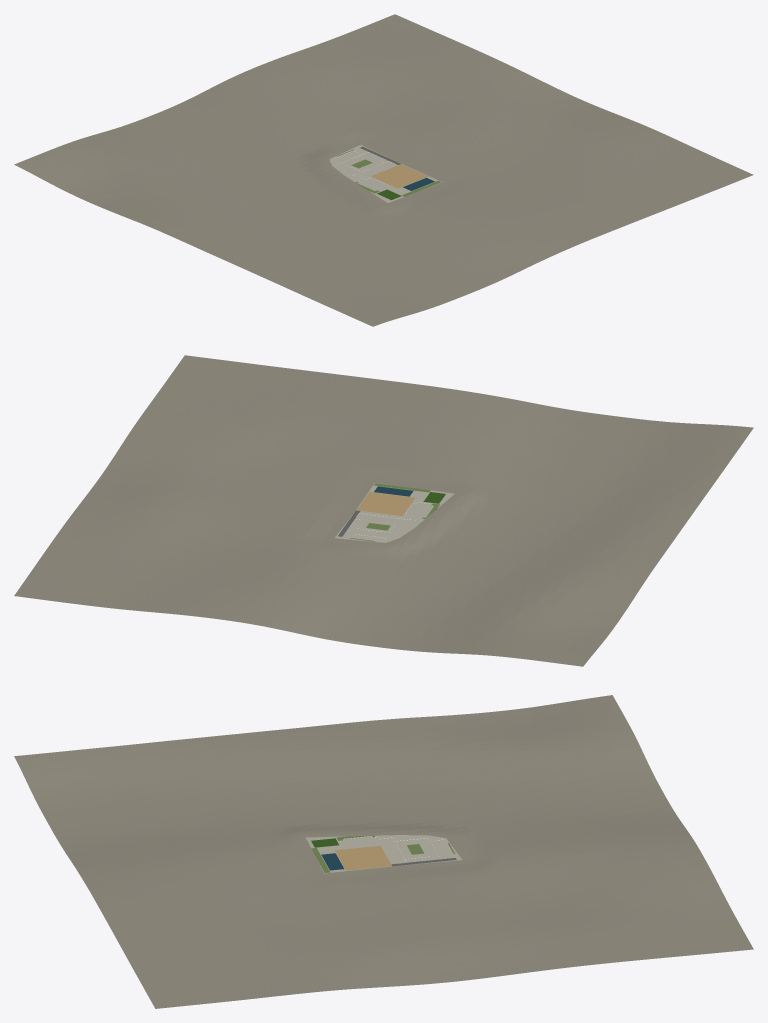
3 views of the same model, one above another, from view 1: azimuth 30°, elevation 25°; view 2: azimuth 150°, elevation 25°; view 3: azimuth 270°, elevation 25° (orthographic). The views are drawn at different scales.
Parts seen in each view (by area): view 1: ground_context-estimated, surface_school-paved-walk, surface_school-field; view 2: ground_context-estimated, surface_school-paved-walk, surface_school-field; view 3: ground_context-estimated, surface_school-paved-walk, surface_school-field.
Part boxes in pixels (x1=…): ground_context-estimated: x1=14, y1=14, x2=753, y2=326; surface_school-paved-walk: x1=329, y1=144, x2=442, y2=202; surface_school-field: x1=371, y1=164, x2=428, y2=188; ground_context-estimated: x1=14, y1=355, x2=753, y2=666; surface_school-paved-walk: x1=335, y1=483, x2=454, y2=542; surface_school-field: x1=357, y1=492, x2=414, y2=515; ground_context-estimated: x1=14, y1=695, x2=753, y2=1008; surface_school-paved-walk: x1=305, y1=835, x2=462, y2=873; surface_school-field: x1=335, y1=846, x2=391, y2=870.
Bounding box in the file's own units: 866 × 11.69 × 866.
7 materials, 7 textured.
